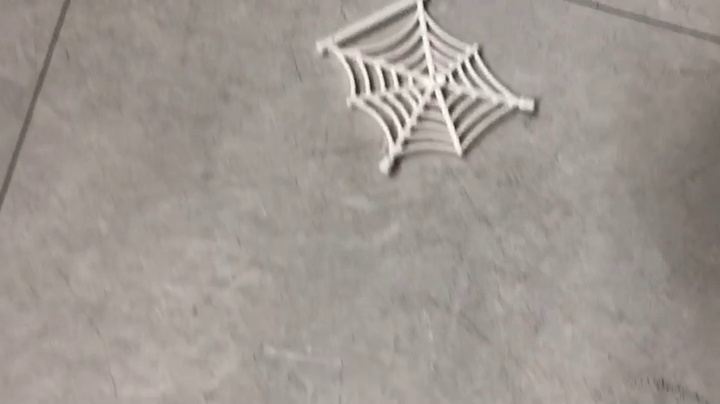web: (314, 1, 541, 177)
